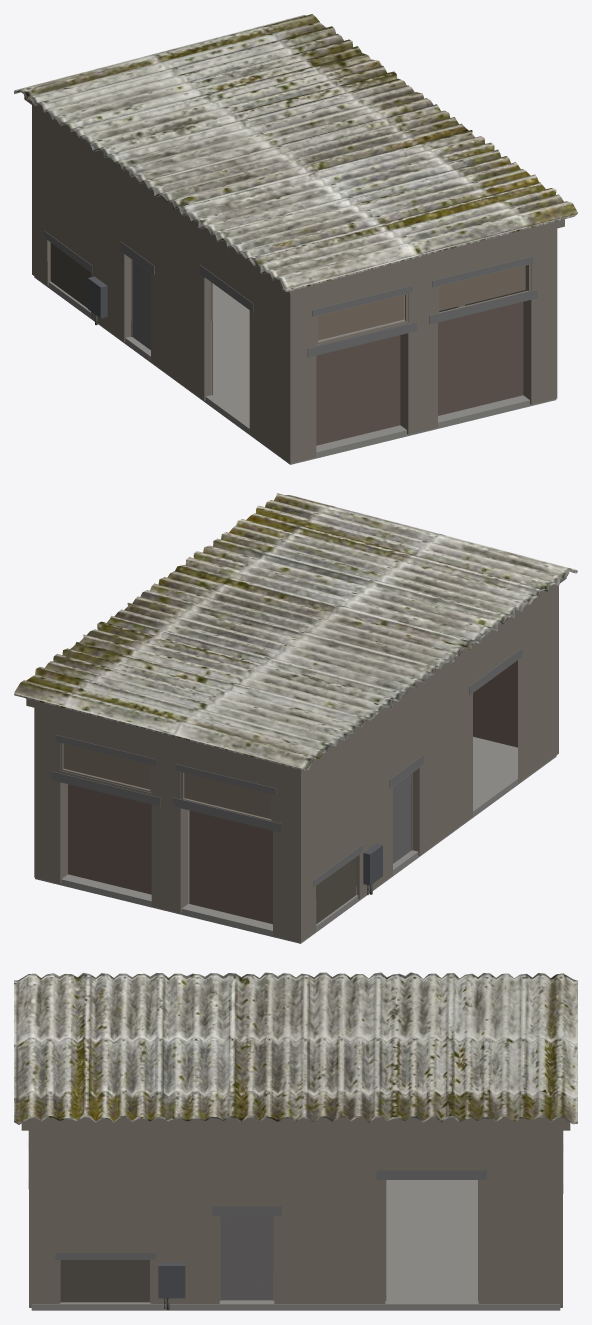
Rendered from garage.walls-v3.lod0.glb.
3 renders of one model, top to bottom at view 1: azimuth 30°, elevation 25°; view 2: azimuth 150°, elevation 25°; view 3: azimuth 270°, elevation 25°, orthographic. The views are drawn at different scales.
Parts seen in each view (by area): view 1: Box001_Material #2100603827_0, Box001_Material #2100603824_0; view 2: Box001_Material #2100603827_0, Box001_Material #2100603824_0; view 3: Box001_Material #2100603827_0, Box001_Material #2100603824_0.
Boxes of the visible parts, x1=… form: Box001_Material #2100603827_0: x1=24, y1=96, x2=564, y2=464; Box001_Material #2100603824_0: x1=14, y1=14, x2=577, y2=291; Box001_Material #2100603827_0: x1=26, y1=577, x2=566, y2=943; Box001_Material #2100603824_0: x1=14, y1=493, x2=577, y2=770; Box001_Material #2100603827_0: x1=21, y1=1116, x2=570, y2=1310; Box001_Material #2100603824_0: x1=14, y1=972, x2=577, y2=1124.
Bounding box in the file's own units: 5.07 × 3.15 × 8.
3 materials, 2 textured.
